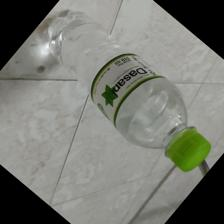Dasani: (45, 10, 212, 173)
